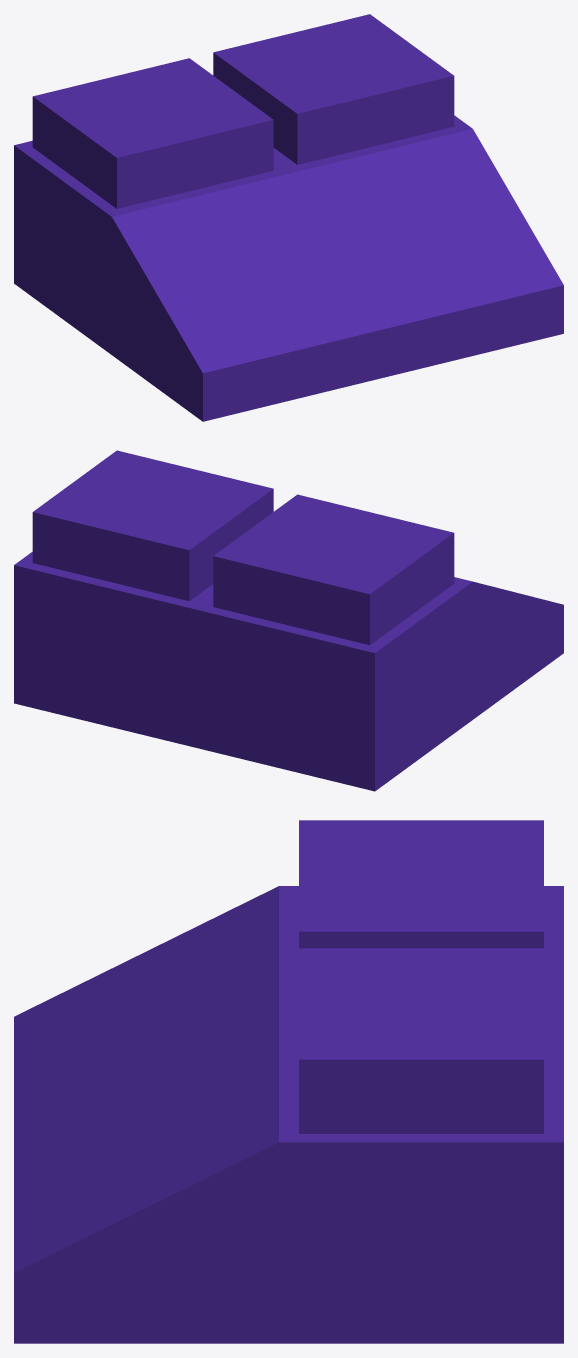
File: Lego_Part_27.fbx
3 views of the same model, one above another, from view 1: azimuth 30°, elevation 25°; view 2: azimuth 150°, elevation 25°; view 3: azimuth 270°, elevation 25° (orthographic). The views are drawn at different scales.
Visible parts, largest first — view 1: Lego_Part_27; view 2: Lego_Part_27; view 3: Lego_Part_27.
Part boxes in pixels (bbox=[...]): Lego_Part_27: bbox=[14, 14, 563, 421]; Lego_Part_27: bbox=[14, 450, 563, 791]; Lego_Part_27: bbox=[14, 820, 563, 1343].
Bounding box in the file's own units: 3.09 × 1.55 × 2.81.
1 material, 1 textured.
